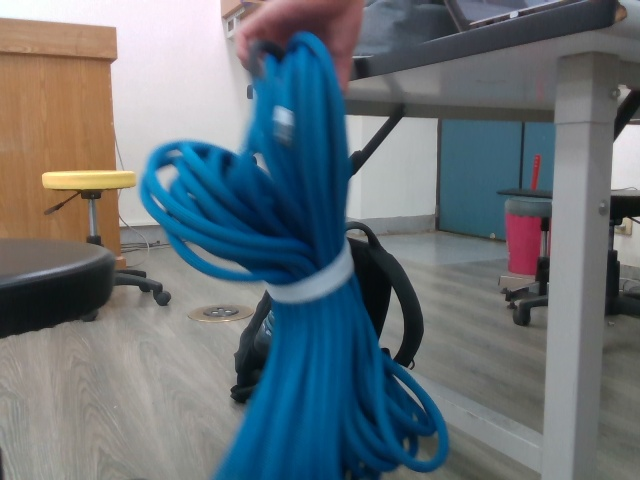rope: (135, 27, 458, 480)
